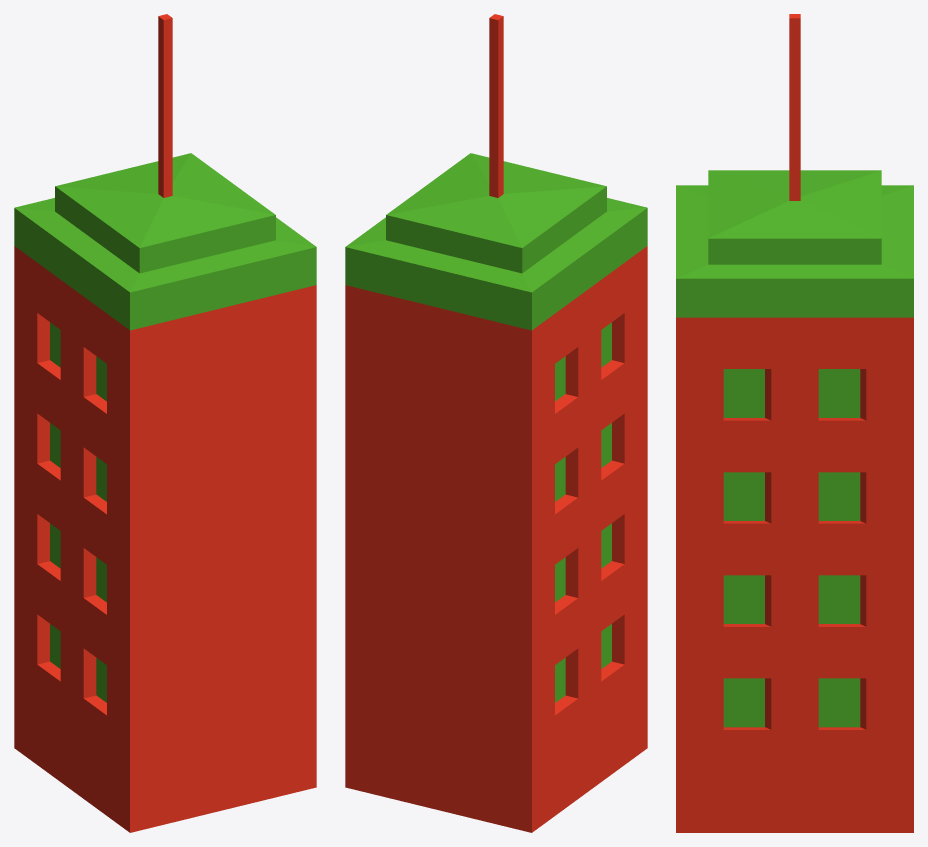
Rendered from Building4.fbx.
3 views of the same model, side by side, from view 1: azimuth 30°, elevation 25°; view 2: azimuth 150°, elevation 25°; view 3: azimuth 270°, elevation 25° (orthographic). The views are drawn at different scales.
Visible parts, largest first — view 1: Cube; view 2: Cube; view 3: Cube.
Boxes of the visible parts, <box> form: Cube: <box>14,14,316,832</box>; Cube: <box>345,14,647,832</box>; Cube: <box>676,14,913,832</box>.
Bounding box in the file's own units: 200 × 769 × 215.
